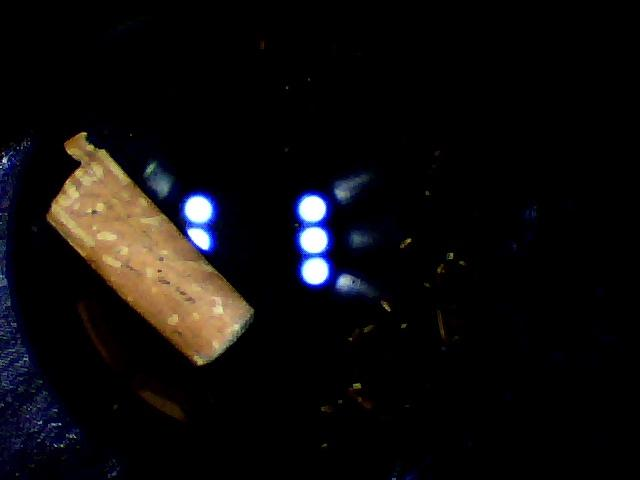megot: (18, 123, 268, 367)
